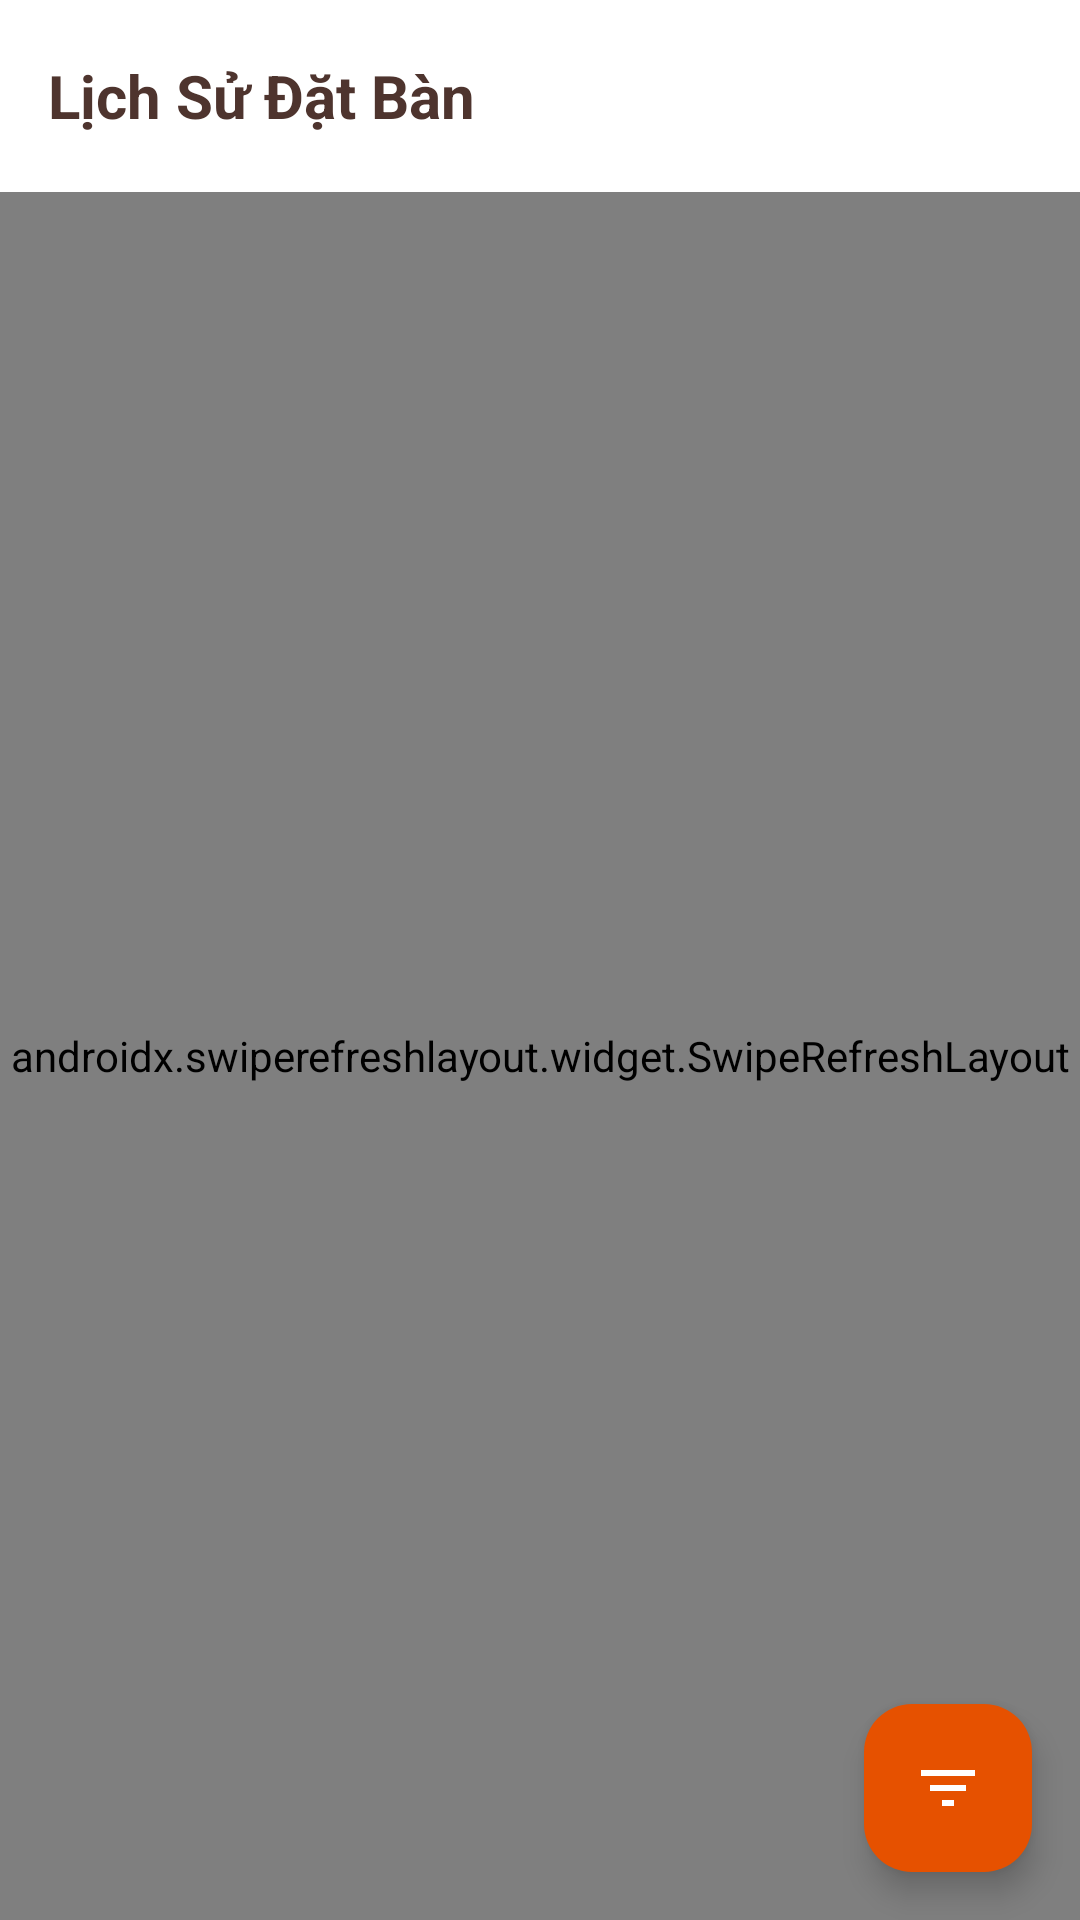

Icons on this 1080*1920 Android screen, each with its box as (x1, y1, x2, y2):
Filter List: (864, 1704, 1032, 1872)
